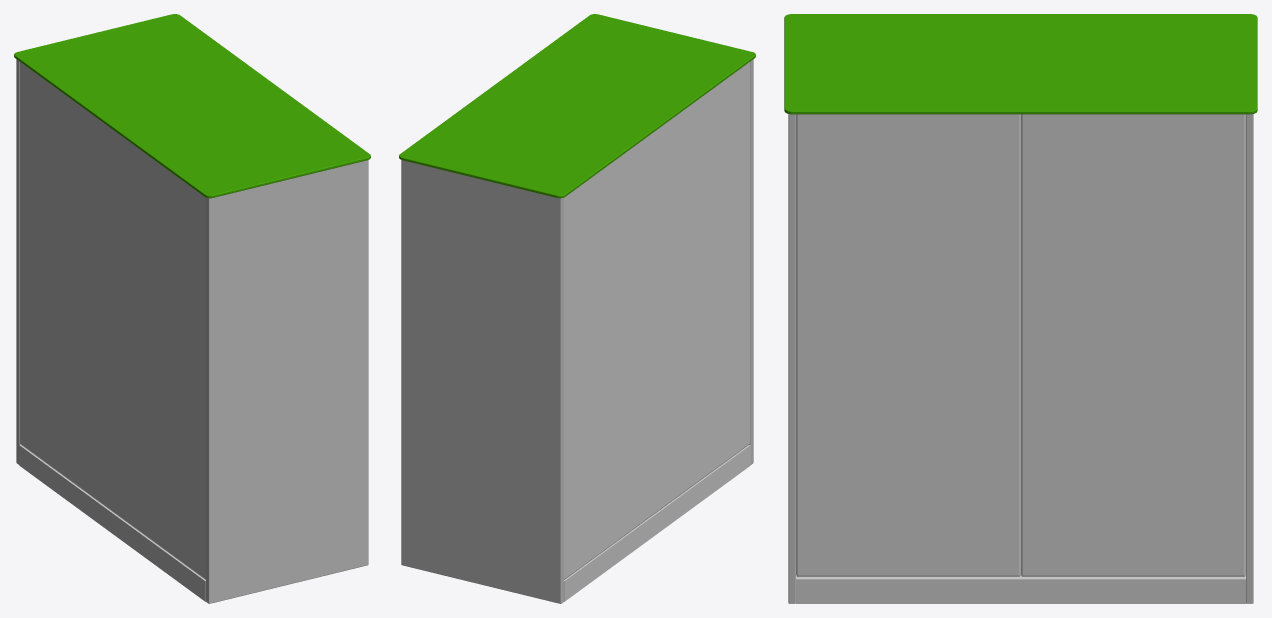
Rendered from TNK-19.dae.
3 views of the same model, side by side, from view 1: azimuth 30°, elevation 25°; view 2: azimuth 150°, elevation 25°; view 3: azimuth 270°, elevation 25° (orthographic). The views are drawn at different scales.
Parts seen in each view (by area): view 1: TNK-19; view 2: TNK-19; view 3: TNK-19.
Boxes of the visible parts, bbox=[...] form: TNK-19: bbox=[14, 14, 370, 603]; TNK-19: bbox=[399, 14, 755, 603]; TNK-19: bbox=[784, 14, 1257, 603].
Bounding box in the file's own units: 59 × 140 × 121.
